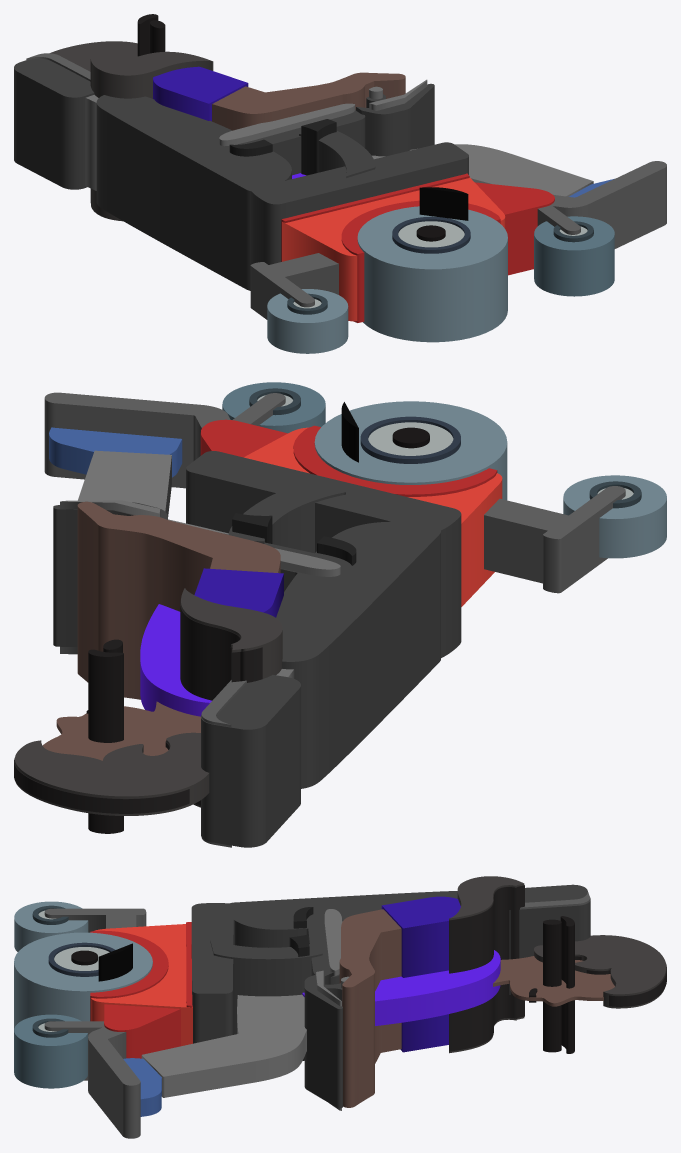
File: emoji_u1f469_1f3ff_200d_1f9bc_200d_27a1.glb
3 views of the same model, one above another, from view 1: azimuth 30°, elevation 25°; view 2: azimuth 150°, elevation 25°; view 3: azimuth 270°, elevation 25° (orthographic). The views are drawn at different scales.
Parts seen in each view (by area): view 1: emoji_u1f469_1f3ff_200d_1f9bc_200d_27a1; view 2: emoji_u1f469_1f3ff_200d_1f9bc_200d_27a1; view 3: emoji_u1f469_1f3ff_200d_1f9bc_200d_27a1.
Boxes of the visible parts, bbox=[...] form: emoji_u1f469_1f3ff_200d_1f9bc_200d_27a1: bbox=[14, 14, 666, 353]; emoji_u1f469_1f3ff_200d_1f9bc_200d_27a1: bbox=[14, 382, 666, 847]; emoji_u1f469_1f3ff_200d_1f9bc_200d_27a1: bbox=[14, 876, 666, 1138].
Bounding box in the file's own units: 0.0238 × 0.0076 × 0.0334.
